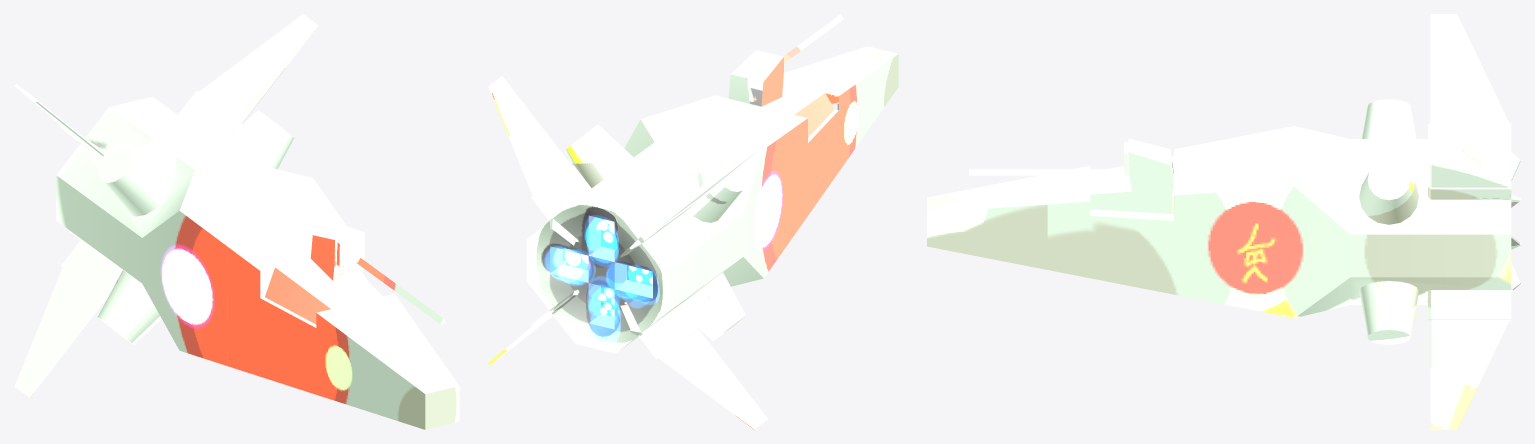
File: fighter.glb
3 views of the same model, side by side, from view 1: azimuth 30°, elevation 25°; view 2: azimuth 150°, elevation 25°; view 3: azimuth 270°, elevation 25° (orthographic). The views are drawn at different scales.
Parts seen in each view (by area): view 1: Cube; view 2: Cube; view 3: Cube.
Boxes of the visible parts, <box> form: Cube: <box>14,14,459,429</box>; Cube: <box>488,14,898,429</box>; Cube: <box>927,14,1520,429</box>.
Size of the model in its own units: 3.9 by 3.9 by 7.37.
